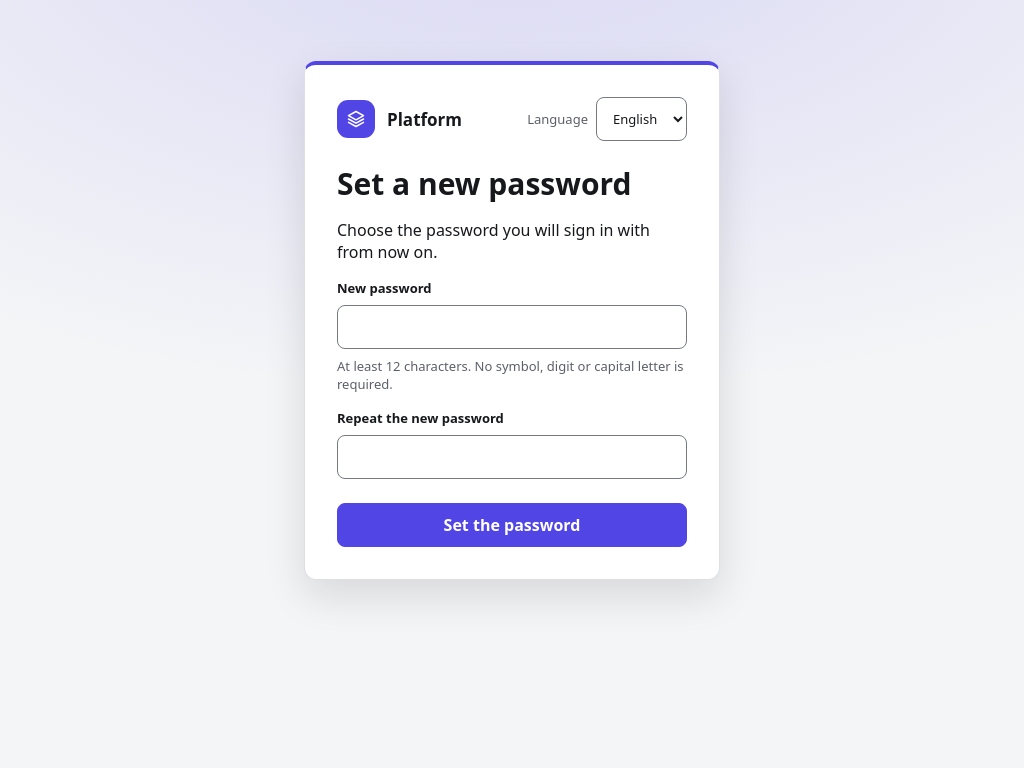
Test: reset — the token from the fragment, one message for a token that cannot be used › keeps unknown, used and expired one message — and stops offering the form
This screenshot has width=1024, height=768.
Type "a new password" into the password field labelled "New password" at (512, 327), box [337,305,687,349]
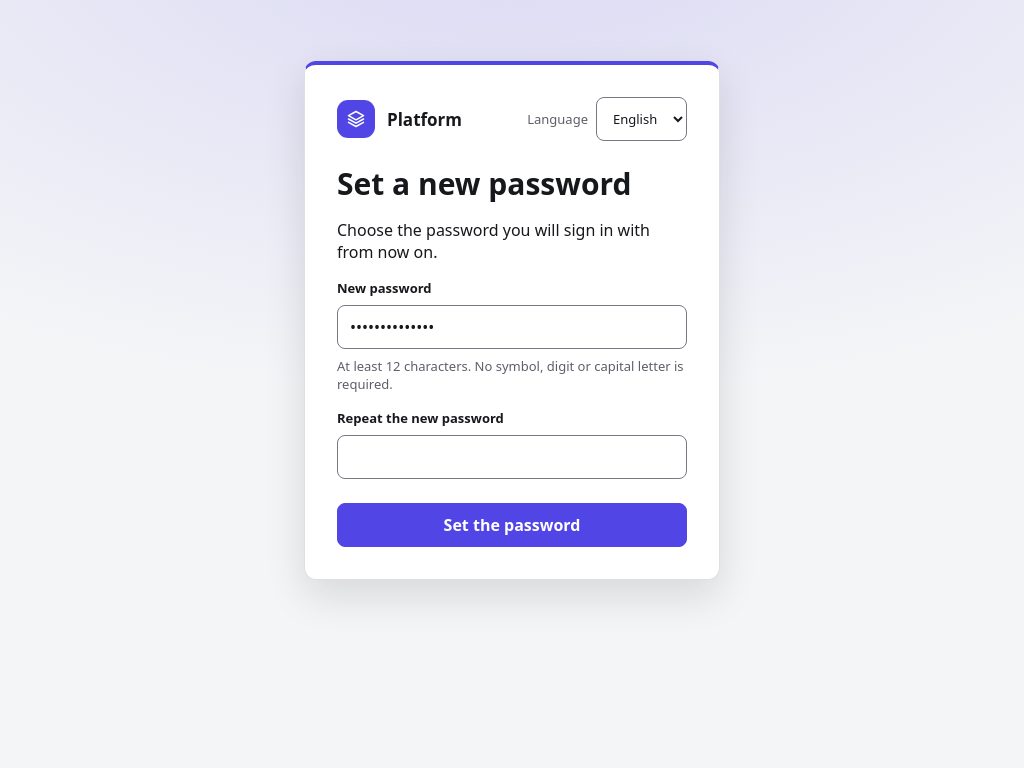
Type "a new password" into the password field labelled "Repeat the new password" at (512, 457), box [337,435,687,479]
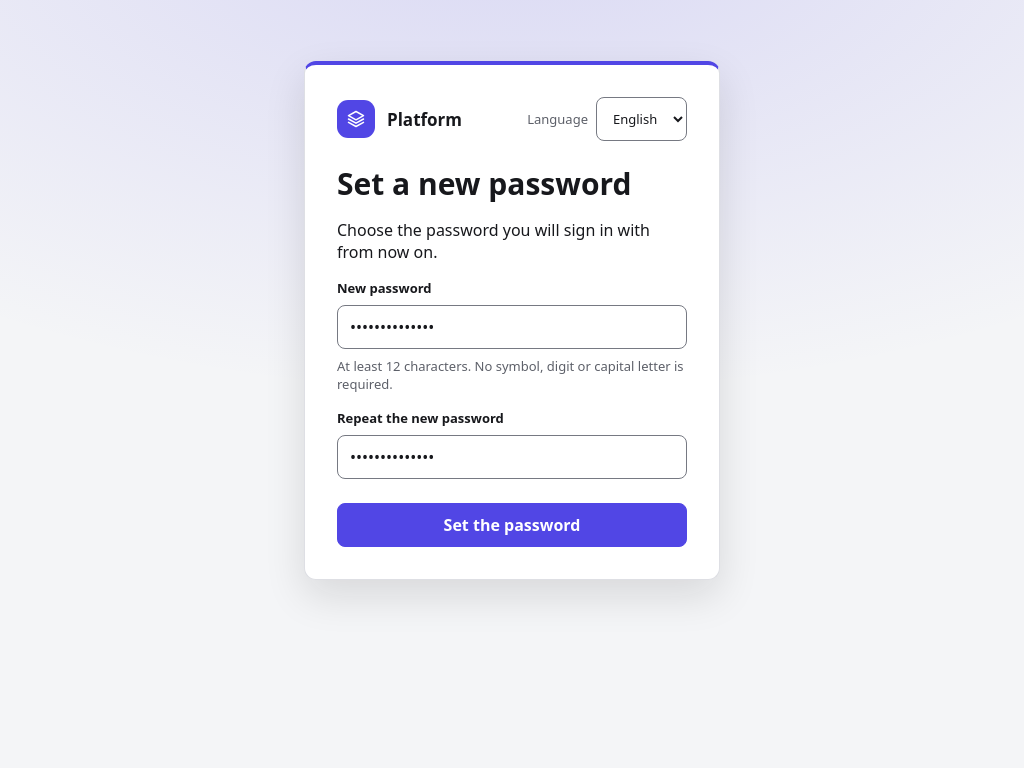
Click the button "Set the password" at (512, 525), box [337,503,687,547]
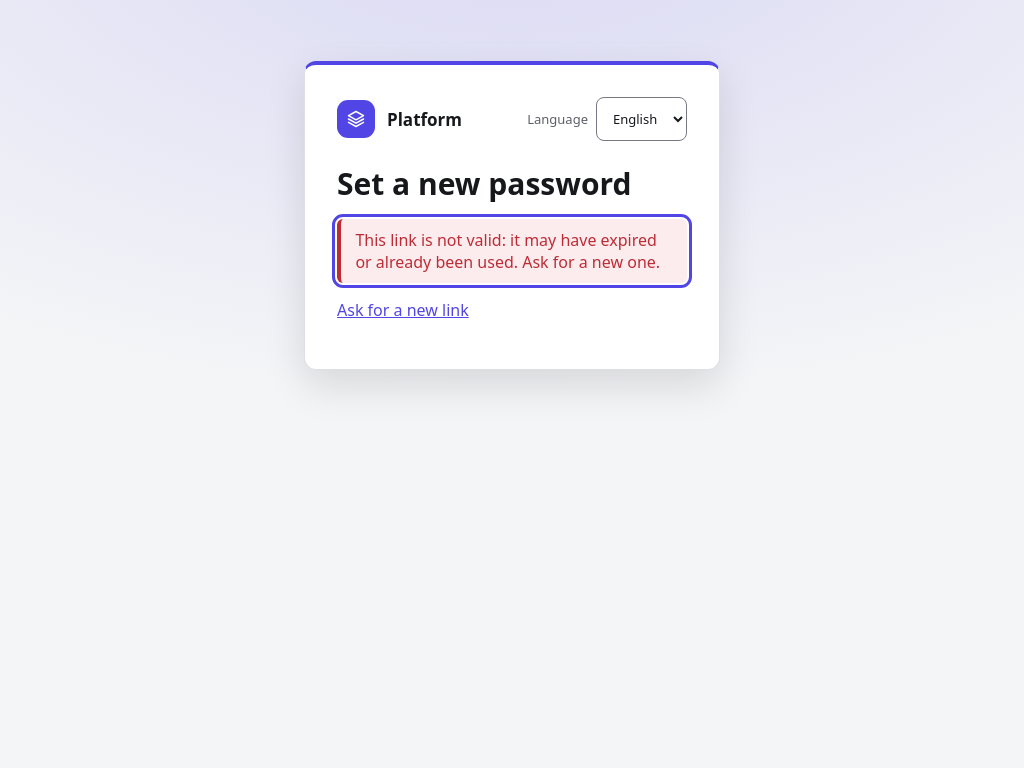
Expected: the message shows "not valid: it may have expired or already been used", [355,229,660,273]
